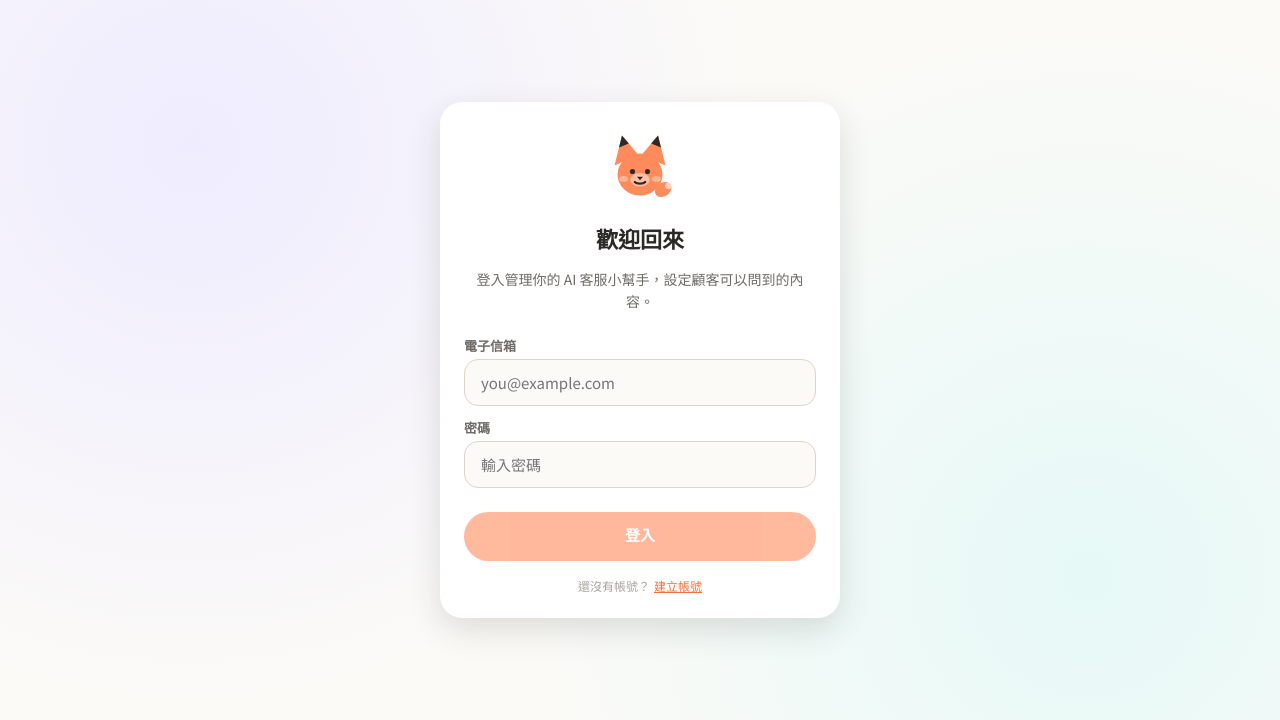
Test: console login against the backend › shows the backend error and stays on the form when login fails
Step 1. Type "a@b.co" into the field labelled "電子信箱" → point(640, 383), box [464,359,816,406]
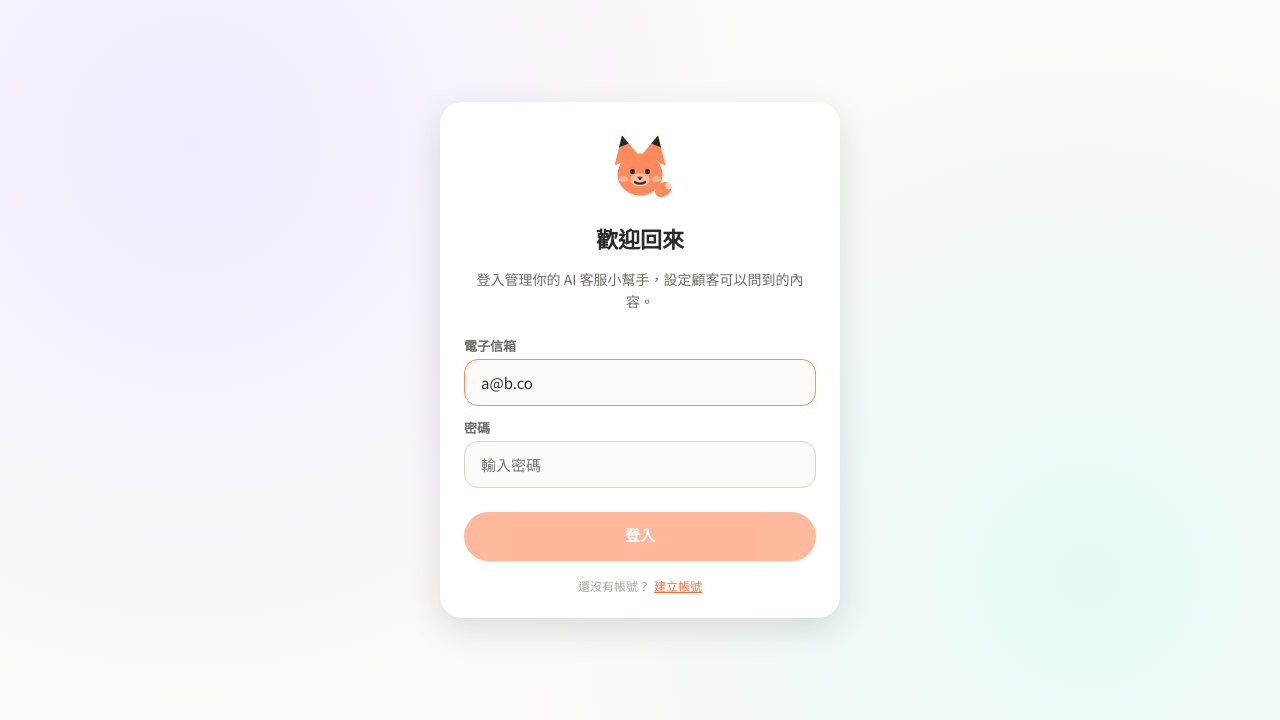
Step 2. Type "wrong" into the password field labelled "密碼" → point(640, 465), box [464,441,816,488]
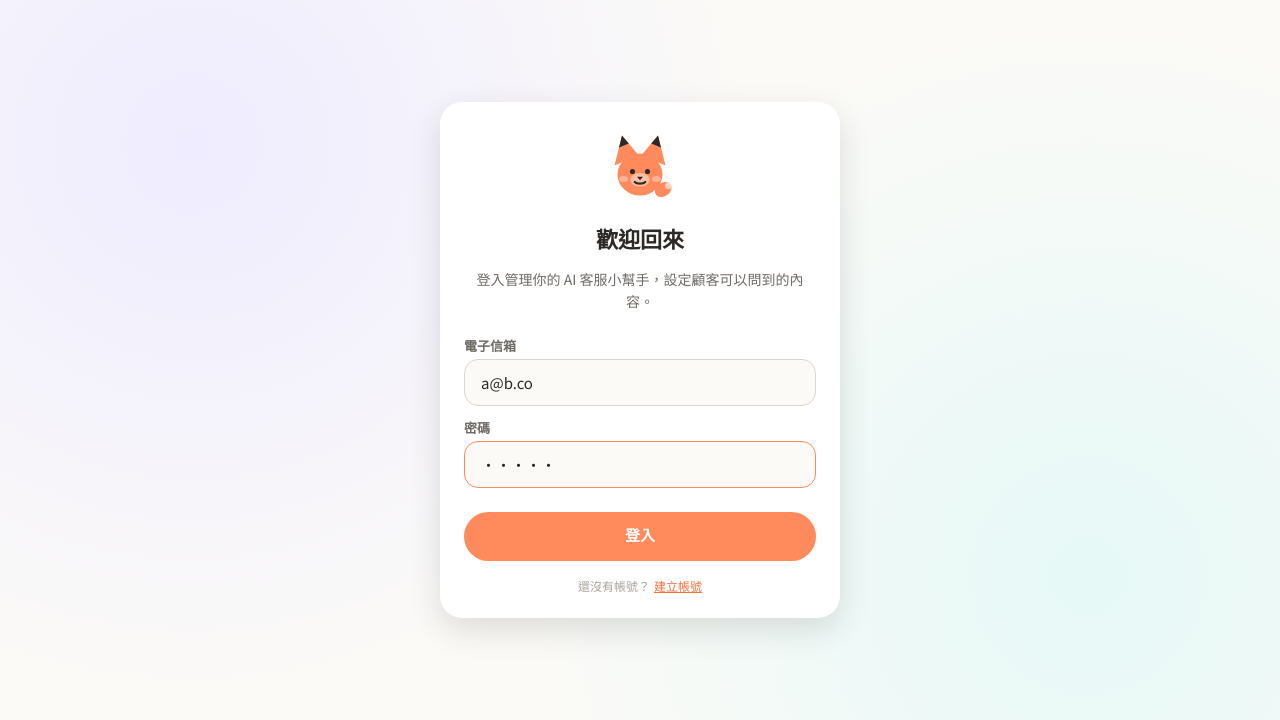
Step 3. Click the button "登入" → point(640, 537), box [464,512,816,561]
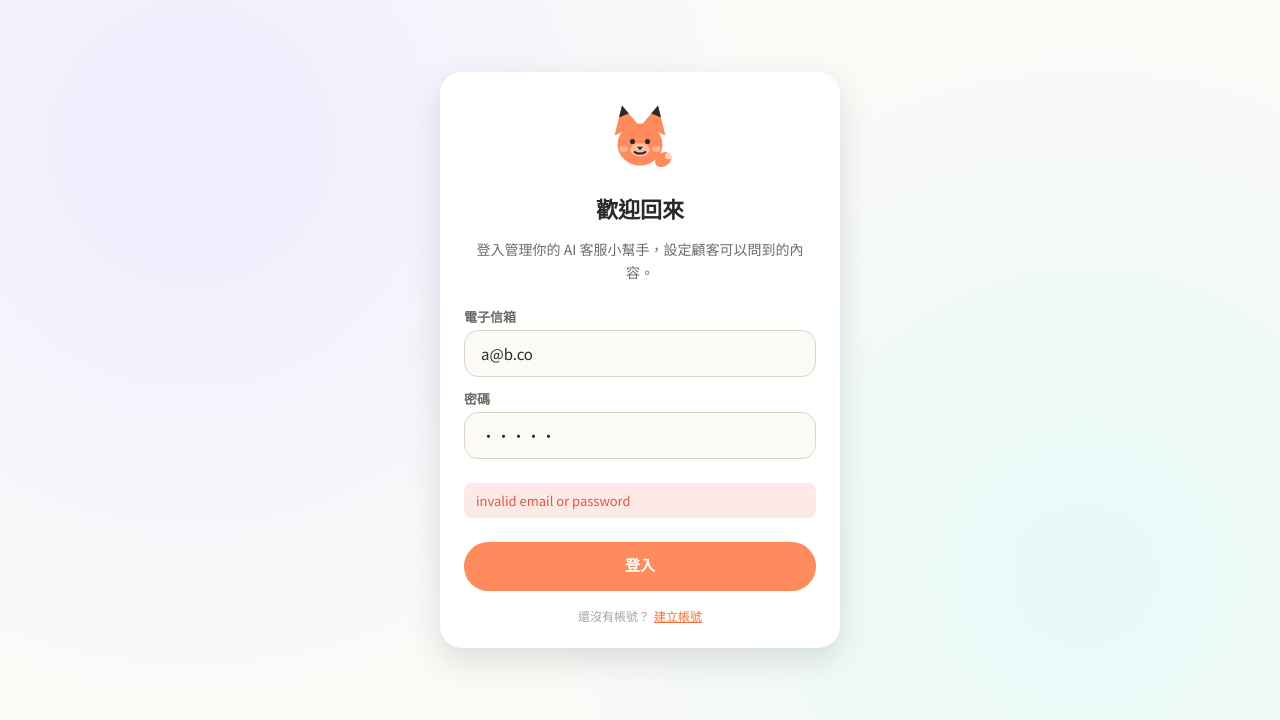
expect the message reads "invalid email or password": met, box [476,491,630,510]
